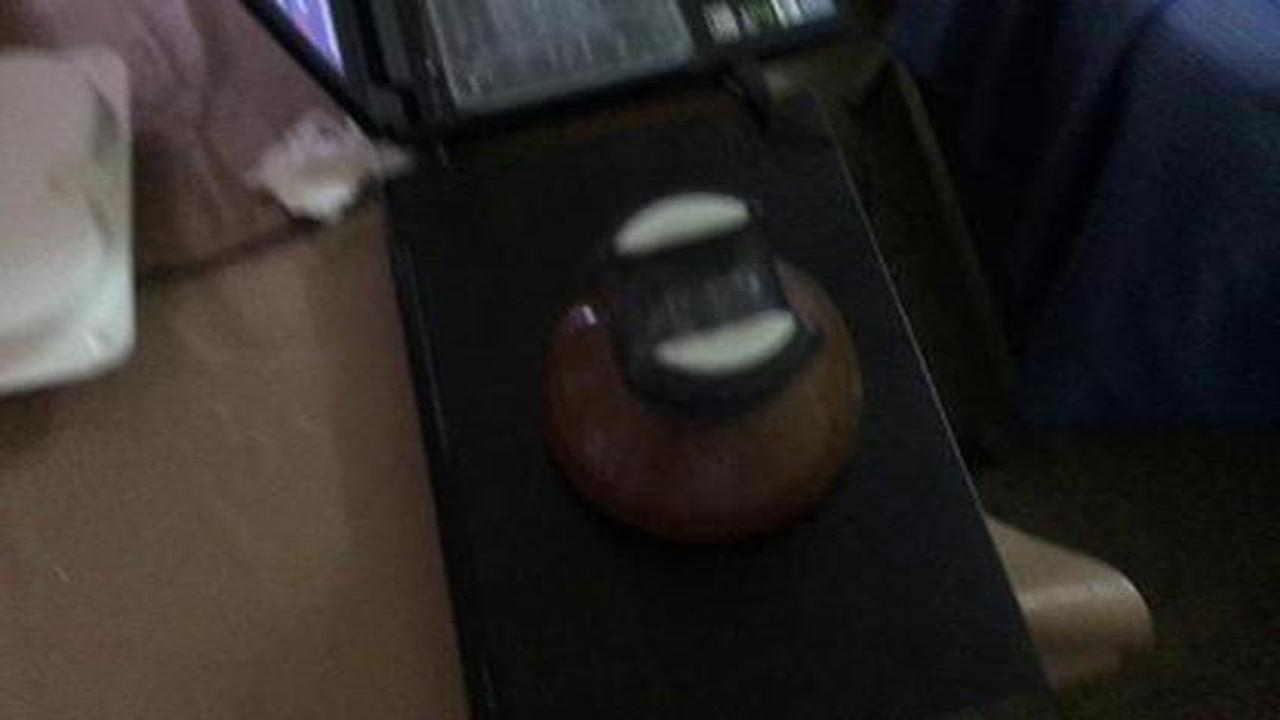insulator_pin: (517, 172, 905, 572)
